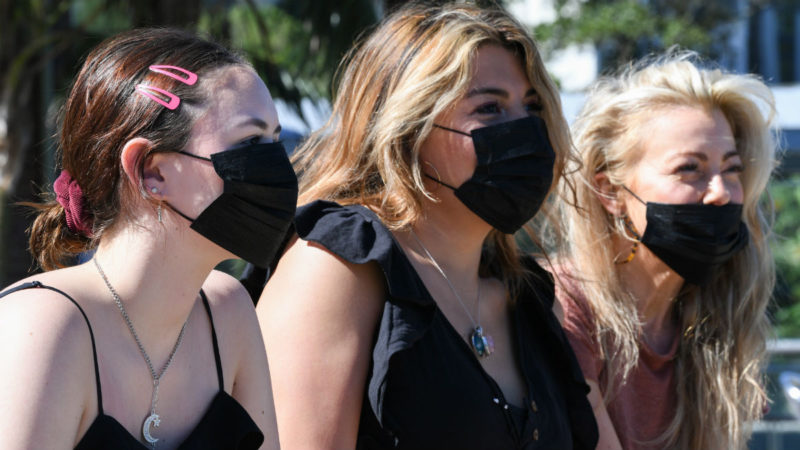with_incorrect_mask: (646, 127, 749, 271)
with_mask: (189, 88, 296, 270), (454, 76, 553, 238)
